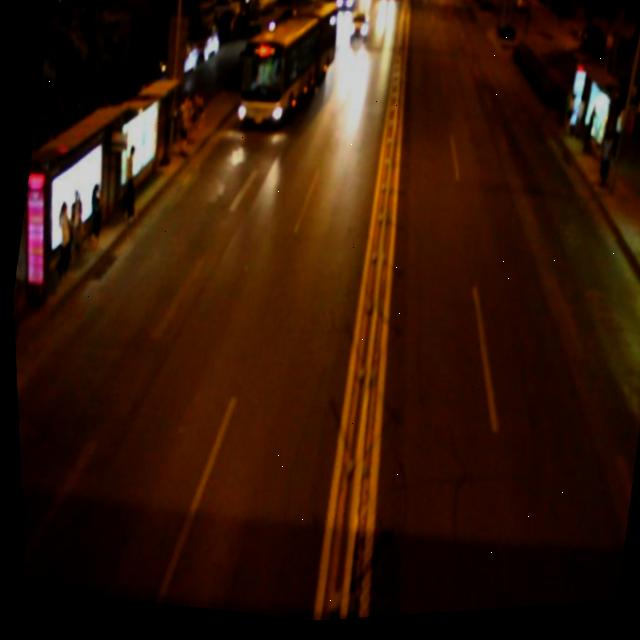car: (345, 11, 372, 48)
van: (231, 1, 341, 139)
